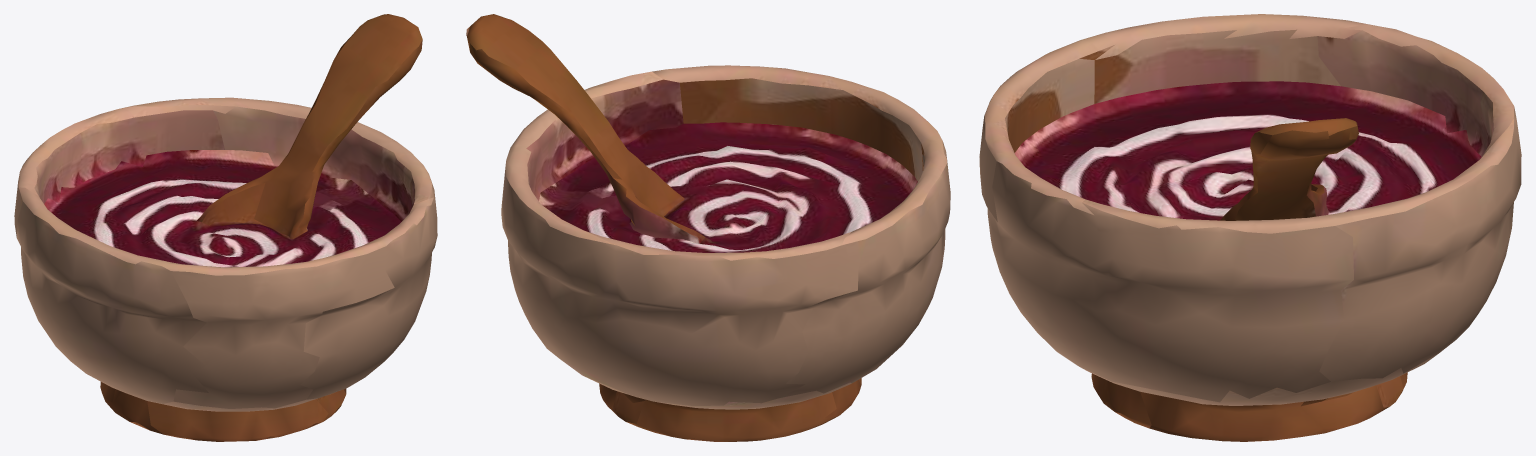
The model's file is ruby_soup.glb.
The picture shows the model from 3 angles, left to right: view 1: azimuth 30°, elevation 25°; view 2: azimuth 150°, elevation 25°; view 3: azimuth 270°, elevation 25°; orthographic projection. The views are drawn at different scales.
Parts seen in each view (by area): view 1: ruby_soup; view 2: ruby_soup; view 3: ruby_soup.
Part boxes in pixels (left/top/right/bottom): ruby_soup: left=14, top=14, right=437, bottom=441; ruby_soup: left=466, top=14, right=950, bottom=441; ruby_soup: left=979, top=14, right=1521, bottom=441.
Size of the model in its own units: 1 by 0.7466 by 0.9558.
Materials: 1 (1 with a texture image).
